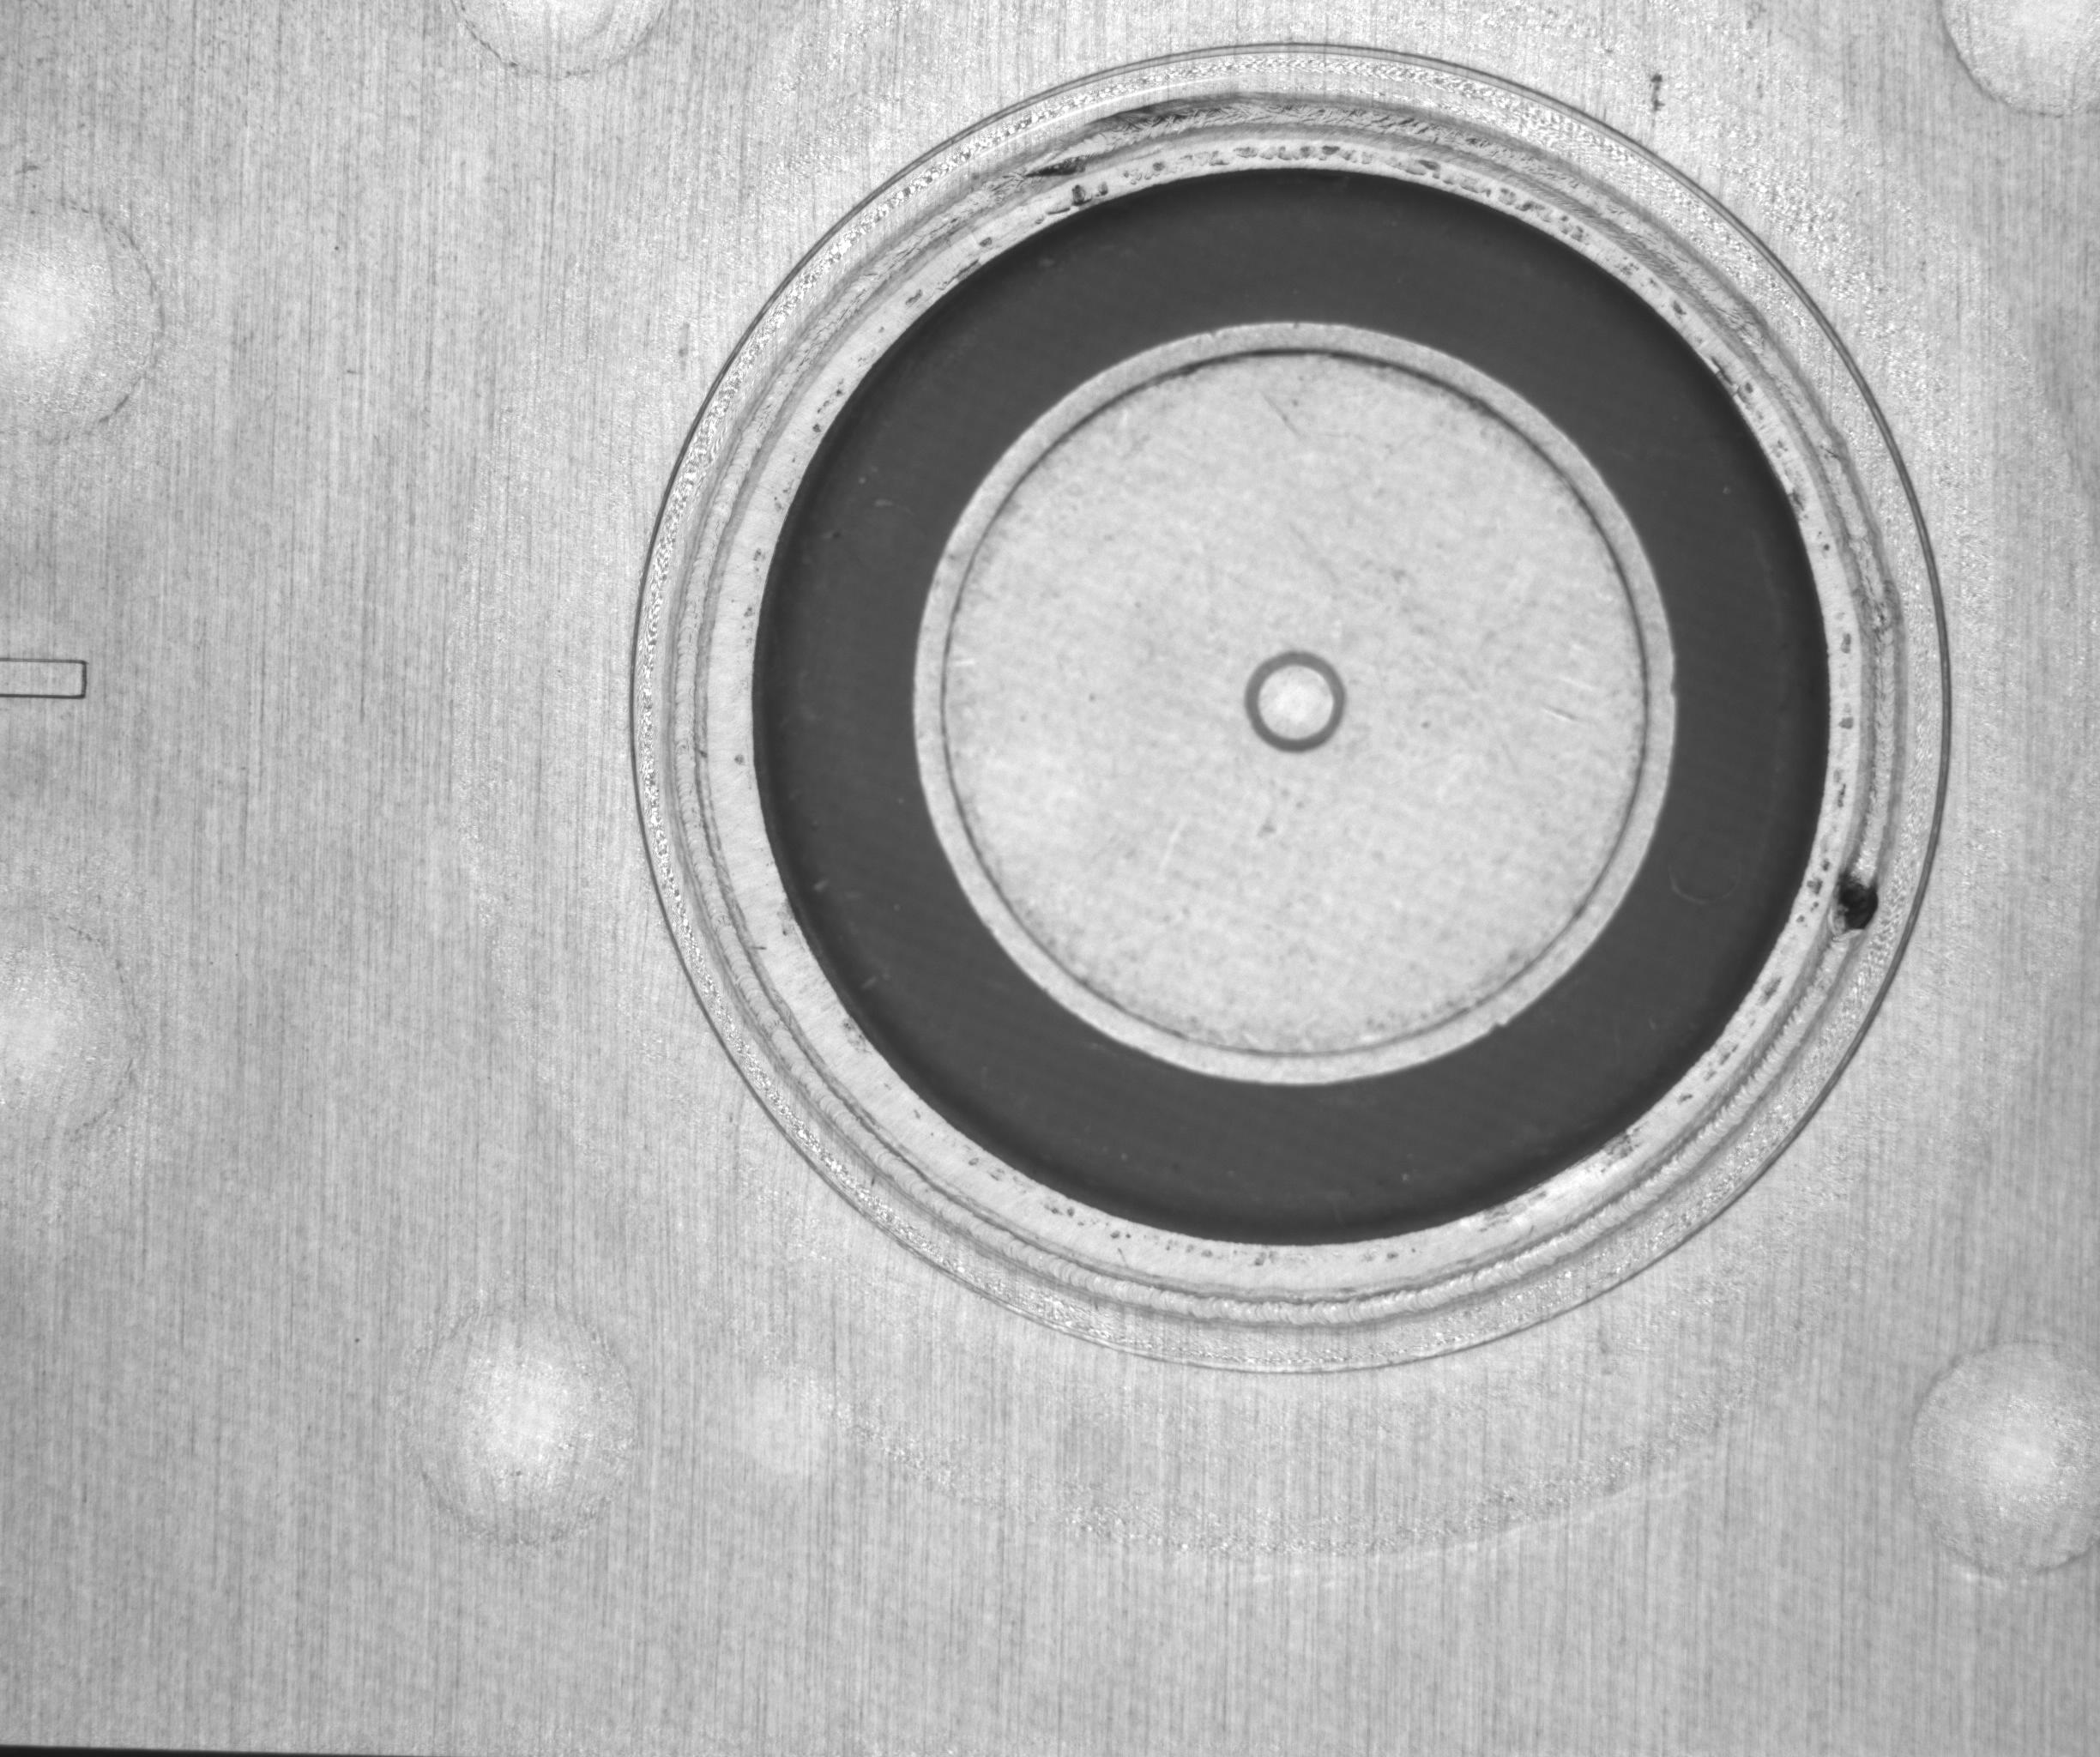weldinghole: (1770, 831, 1947, 988)
